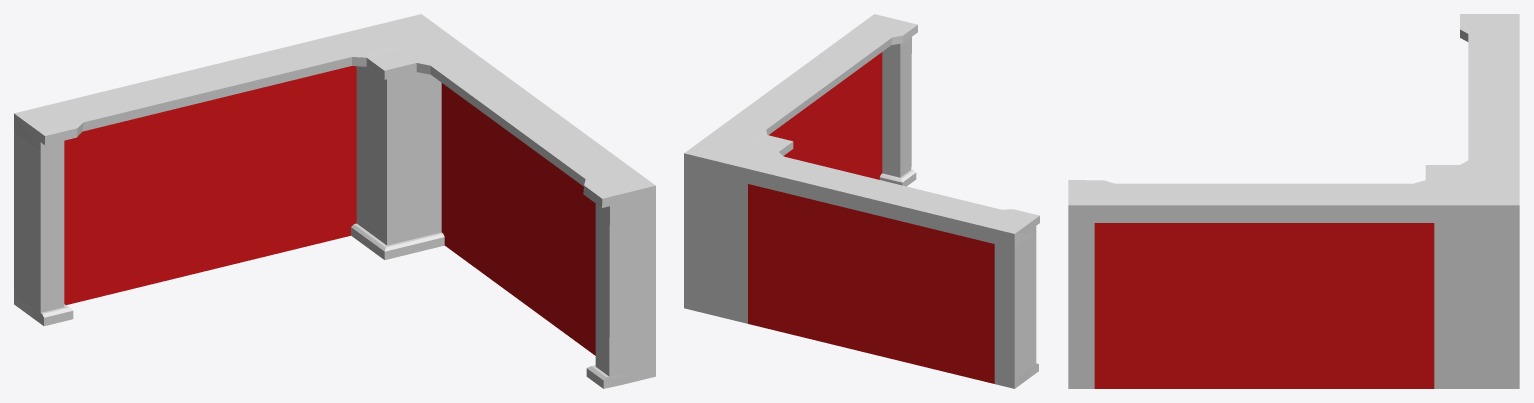
Rendered from Wall corner in Hybrid.fbx.
The picture shows the model from 3 angles, left to right: view 1: azimuth 30°, elevation 25°; view 2: azimuth 150°, elevation 25°; view 3: azimuth 270°, elevation 25°; orthographic projection. The views are drawn at different scales.
Visible parts, largest first — view 1: Corner in Hybrid; view 2: Corner in Hybrid; view 3: Corner in Hybrid.
Boxes of the visible parts, x1,y1,x2,y2 form: Corner in Hybrid: (14, 14, 655, 388); Corner in Hybrid: (684, 14, 1039, 388); Corner in Hybrid: (1068, 14, 1519, 388).
Size of the model in its own units: 637 by 286 by 636.
